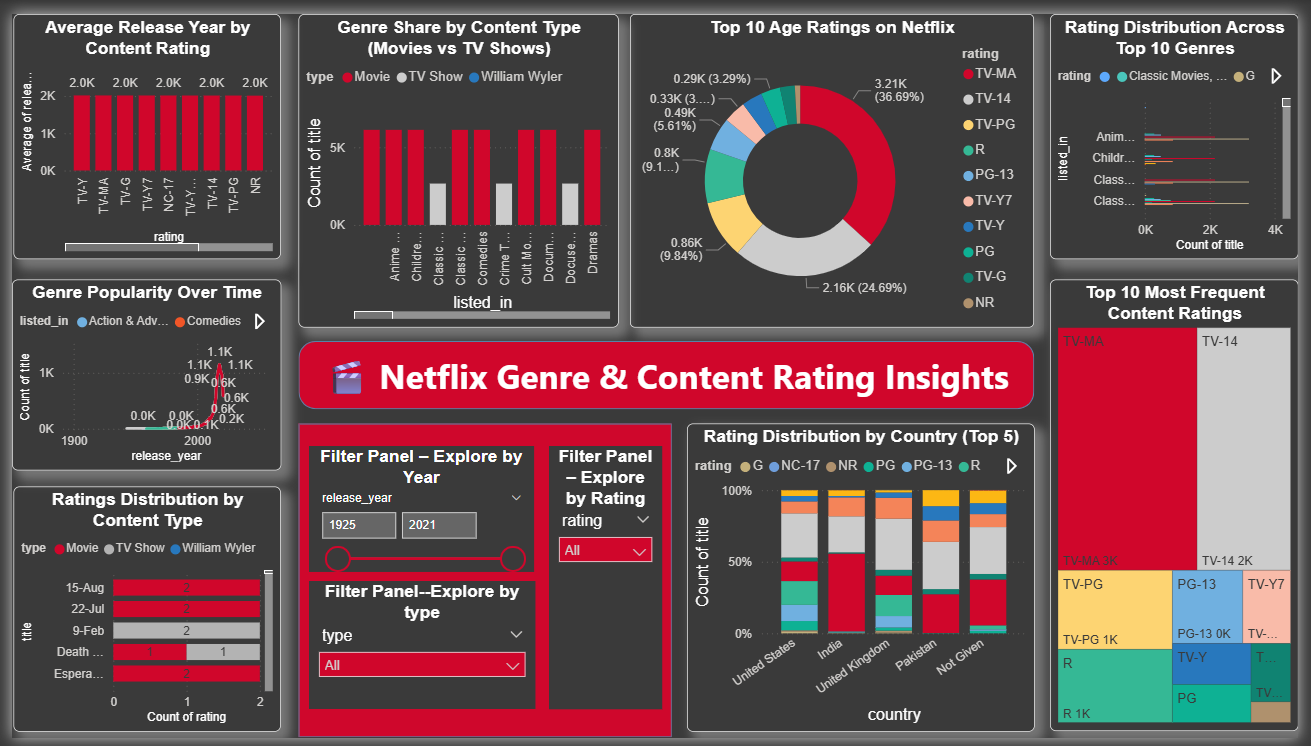

Layout of this report page (visuals, bound fields, positions):
{"tool":"powerbi","page":{"name":"Page 2","canvas":[1280,720],"ordinal":1},"visuals":[{"type":"clusteredBarChart","title":"Rating Distribution Across Top 10 Genres","fields":{"Category":["GenreSplit.listed_in"],"Y":["CountNonNull(netflix_cleaned.title)"],"Series":["netflix_cleaned.rating"]},"box":[1032.2,0,247.5,244.1],"z":0},{"type":"barChart","title":"Ratings Distribution by Content Type","fields":{"Y":["CountNonNull(netflix_cleaned.rating)"],"Category":["netflix_cleaned.title"],"Series":["netflix_cleaned.type"]},"box":[1.7,469.5,266.1,244.1],"z":1000},{"type":"hundredPercentStackedColumnChart","title":"Rating Distribution by Country (Top 5)","fields":{"Category":["netflix_cleaned.country"],"Y":["CountNonNull(netflix_cleaned.title)"],"Series":["netflix_cleaned.rating"]},"box":[671.2,406.8,345.8,306.8],"z":2000},{"type":"lineChart","title":"Genre Popularity Over Time","fields":{"Category":["netflix_cleaned.release_year"],"Y":["CountNonNull(netflix_cleaned.title)"],"Series":["GenreSplit.listed_in"]},"box":[0,264.4,267.8,189.8],"z":3000},{"type":"donutChart","title":"Top 10 Age Ratings on Netflix","fields":{"Category":["netflix_cleaned.rating"],"Y":["CountNonNull(netflix_cleaned.title)"]},"box":[615.3,0,401.7,311.9],"z":4000},{"type":"treemap","title":"Top 10 Most Frequent Content Ratings","fields":{"Group":["netflix_cleaned.rating"],"Values":["CountNonNull(netflix_cleaned.title)"],"Details":["netflix_cleaned.rating"]},"box":[1032.2,264.4,247.5,449.2],"z":5000},{"type":"columnChart","title":"Average Release Year by Content Rating","fields":{"Category":["netflix_cleaned.rating"],"Y":["Avg(netflix_cleaned.release_year)"]},"box":[1.7,0,266.1,244.1],"z":6000},{"type":"columnChart","title":"Genre Share by Content Type (Movies vs TV Shows)","fields":{"Category":["GenreSplit.listed_in"],"Y":["CountNonNull(netflix_cleaned.title)"],"Series":["netflix_cleaned.type"]},"box":[284.7,0,318.6,311.9],"z":7000},{"type":"shape","box":[284.7,406.8,371.5,312.3],"z":7500,"group":"g1"},{"type":"group","id":"g1","title":"Group 1","box":[284.7,406.8,371.2,313.6],"z":8000},{"type":"slicer","title":" Filter Panel--Explore by type","fields":{"Values":["netflix_cleaned.type"]},"box":[295.2,563.2,225.3,127.6],"z":8000,"group":"g1"},{"type":"shape","title":"🎬 Netflix Genre & Content Rating Insights","box":[284.7,325.4,732.2,67.8],"z":9000},{"type":"slicer","title":" Filter Panel – Explore by Rating","fields":{"Values":["netflix_cleaned.rating"]},"box":[534.4,429.1,112.7,261.7],"z":9000,"group":"g1"},{"type":"slicer","title":" Filter Panel – Explore by Year","fields":{"Values":["netflix_cleaned.release_year"]},"box":[295.2,429.1,223.8,125.4],"z":10500,"group":"g1"}]}

Visuals, with their boxes in screenshot pixels (x1, y1, x2, y2), scaled from the page's 1280x720 canvas onto the 1311x746 screenshot:
"Rating Distribution Across Top 10 Genres" clusteredBarChart: crop(1057, 0, 1310, 253)
"Ratings Distribution by Content Type" barChart: crop(2, 486, 274, 739)
"Rating Distribution by Country (Top 5)" hundredPercentStackedColumnChart: crop(687, 421, 1042, 739)
"Genre Popularity Over Time" lineChart: crop(0, 274, 274, 471)
"Top 10 Age Ratings on Netflix" donutChart: crop(630, 0, 1042, 323)
"Top 10 Most Frequent Content Ratings" treemap: crop(1057, 274, 1310, 739)
"Average Release Year by Content Rating" columnChart: crop(2, 0, 274, 253)
"Genre Share by Content Type (Movies vs TV Shows)" columnChart: crop(292, 0, 618, 323)
shape: crop(292, 421, 672, 745)
"Group 1" group: crop(292, 421, 672, 745)
" Filter Panel--Explore by type" slicer: crop(302, 584, 533, 716)
"🎬 Netflix Genre & Content Rating Insights" shape: crop(292, 337, 1042, 407)
" Filter Panel – Explore by Rating" slicer: crop(547, 445, 663, 716)
" Filter Panel – Explore by Year" slicer: crop(302, 445, 532, 575)
